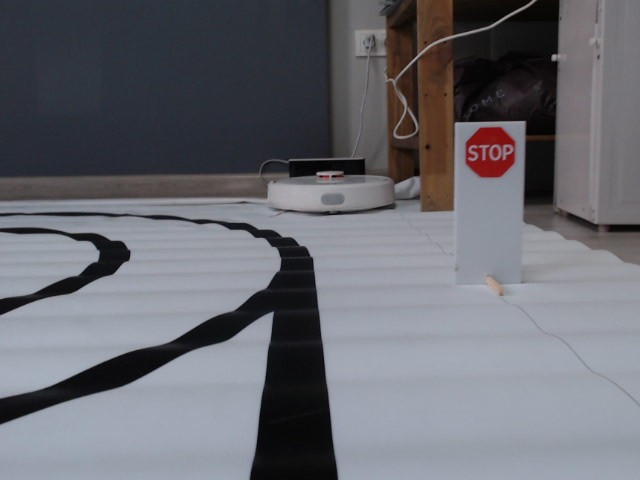Stop: (461, 123, 519, 176)
